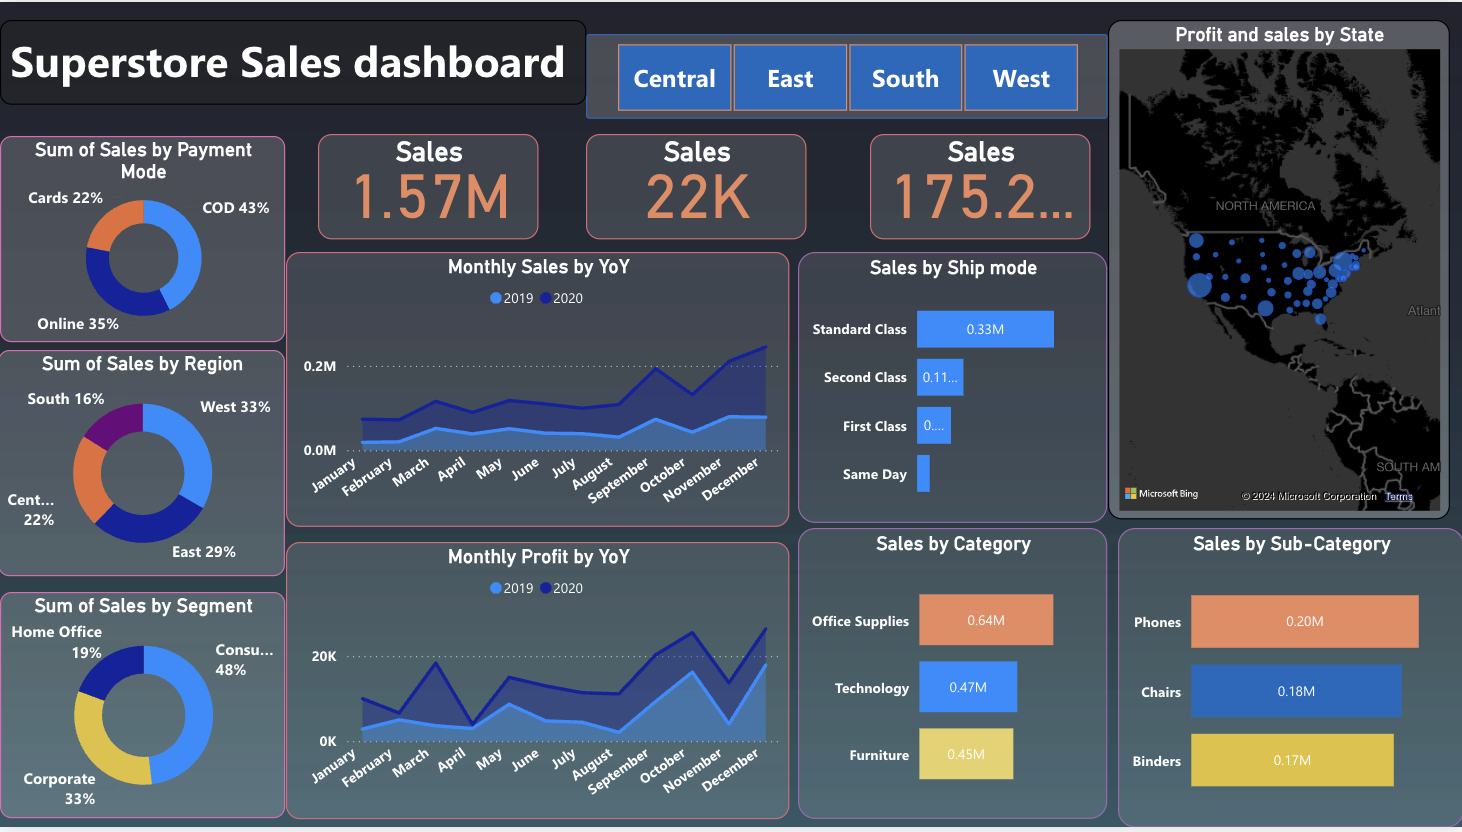

This screenshot's page, from the dashboard's own definition file:
{"tool":"powerbi","page":{"name":"Dashboard","canvas":[1280,720],"ordinal":0},"visuals":[{"type":"clusteredBarChart","title":"Sales by Category","fields":{"Category":["Sheet1.Category"],"Y":["Sum(Sheet1.Sales)"]},"box":[699.1,459,270.1,254.2],"z":0},{"type":"clusteredBarChart","title":"Sales by Sub-Category","fields":{"Category":["Sheet1.Sub-Category"],"Y":["Sum(Sheet1.Sales)"]},"box":[978.1,459,301.9,261.3],"z":1000},{"type":"clusteredBarChart","title":"Sales by Ship mode","fields":{"Category":["Sheet1.Ship Mode"],"Y":["Sum(Sheet1.Sales)"]},"box":[699.1,218.9,270.1,236.6],"z":2000},{"type":"card","title":"Sales","fields":{"Values":["Sum(Sheet1.Sales)"]},"box":[279,114.8,192.4,91.8],"z":3000},{"type":"stackedAreaChart","title":"Monthly Profit by YoY","fields":{"Category":["Sheet1.Order Date.Variation.Date Hierarchy.Month"],"Series":["Sheet1.Order Date.Variation.Date Hierarchy.Year"],"Y":["Sum(Sheet1.Profit)"]},"box":[250.7,471.4,439.6,241.9],"z":4000},{"type":"map","title":"Profit and sales by State","fields":{"Category":["Sheet1.State"],"Size":["Sum(Sheet1.Sales)"]},"box":[969.3,15.9,298.4,436.1],"z":5000},{"type":"donutChart","fields":{"Category":["Sheet1.Segment"],"Y":["Sum(Sheet1.Sales)"]},"box":[1.8,515.5,248.9,197.7],"z":6000},{"type":"donutChart","fields":{"Category":["Sheet1.Payment Mode"],"Y":["Sum(Sheet1.Sales)"]},"box":[1.8,116.5,248.9,180.1],"z":7000},{"type":"slicer","fields":{"Values":["Sheet1.Region"]},"box":[513.8,28.2,455.5,74.2],"z":8000},{"type":"textbox","box":[1.8,15.9,512,74.2],"z":9000},{"type":"card","title":"Sales","fields":{"Values":["Sum(Sheet1.Quantity)"]},"box":[513.8,114.8,192.4,91.8],"z":10000},{"type":"card","title":"Sales","fields":{"Values":["Sum(Sheet1.Profit)"]},"box":[760.9,114.8,192.4,91.8],"z":11000},{"type":"stackedAreaChart","title":"Monthly Sales by YoY","fields":{"Category":["Sheet1.Order Date.Variation.Date Hierarchy.Month"],"Series":["Sheet1.Order Date.Variation.Date Hierarchy.Year"],"Y":["Sum(Sheet1.Sales)"]},"box":[250.7,218.9,439.6,240.1],"z":12000},{"type":"donutChart","fields":{"Category":["Sheet1.Region"],"Y":["Sum(Sheet1.Sales)"]},"box":[0,303.7,250.7,197.7],"z":12001}]}

Visuals, with their boxes in screenshot pixels (x1, y1, x2, y2), scaled from the page's 1280x720 canvas onto the 1462x832 screenshot:
"Sales by Category" clusteredBarChart: Rect(799, 530, 1107, 824)
"Sales by Sub-Category" clusteredBarChart: Rect(1117, 530, 1461, 831)
"Sales by Ship mode" clusteredBarChart: Rect(799, 253, 1107, 526)
"Sales" card: Rect(319, 133, 538, 239)
"Monthly Profit by YoY" stackedAreaChart: Rect(286, 545, 788, 824)
"Profit and sales by State" map: Rect(1107, 18, 1448, 522)
donutChart - Sheet1.Segment x Sum(Sheet1.Sales): Rect(2, 596, 286, 824)
donutChart - Sheet1.Payment Mode x Sum(Sheet1.Sales): Rect(2, 135, 286, 343)
slicer - Sheet1.Region: Rect(587, 33, 1107, 118)
textbox: Rect(2, 18, 587, 104)
"Sales" card: Rect(587, 133, 807, 239)
"Sales" card: Rect(869, 133, 1089, 239)
"Monthly Sales by YoY" stackedAreaChart: Rect(286, 253, 788, 530)
donutChart - Sheet1.Region x Sum(Sheet1.Sales): Rect(0, 351, 286, 579)
